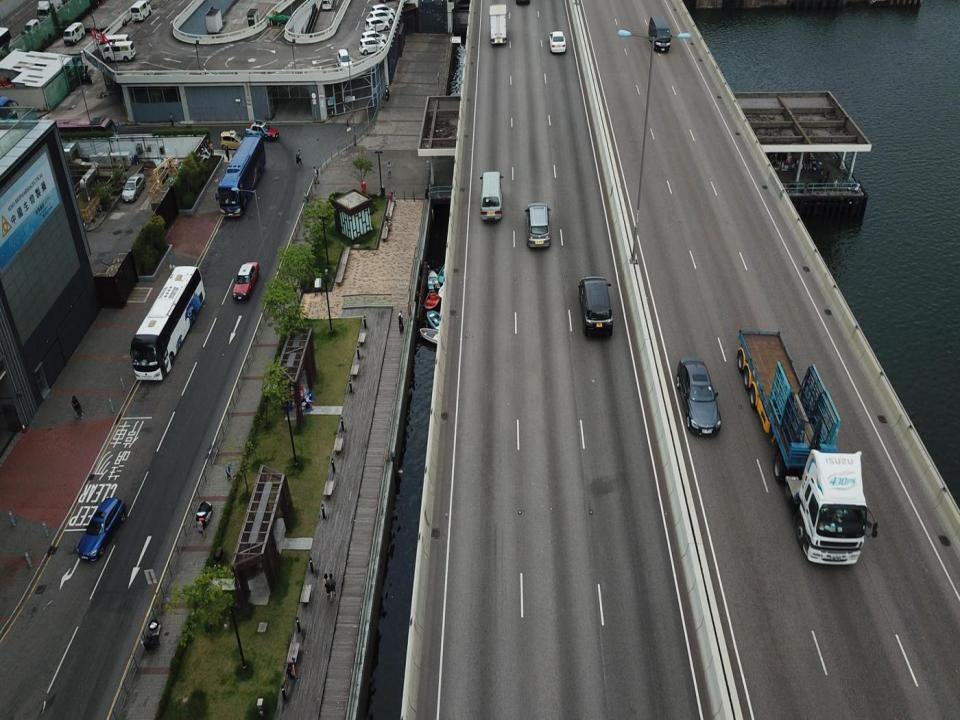bus: (130, 266, 206, 383), (216, 134, 266, 218), (42, 117, 120, 157)
car: (676, 356, 724, 439), (77, 497, 128, 562), (577, 274, 614, 339), (522, 202, 553, 249), (231, 262, 260, 302), (245, 118, 278, 140), (121, 174, 146, 202), (220, 129, 244, 150), (548, 29, 566, 54)
truck: (735, 327, 879, 569), (488, 2, 510, 46)
van: (478, 165, 505, 226), (647, 16, 672, 55), (101, 41, 136, 64), (96, 34, 130, 56), (62, 21, 86, 46), (358, 36, 385, 55), (129, 0, 152, 22), (369, 9, 394, 26), (364, 16, 390, 32), (360, 29, 386, 44), (336, 50, 352, 72), (372, 4, 396, 16)
